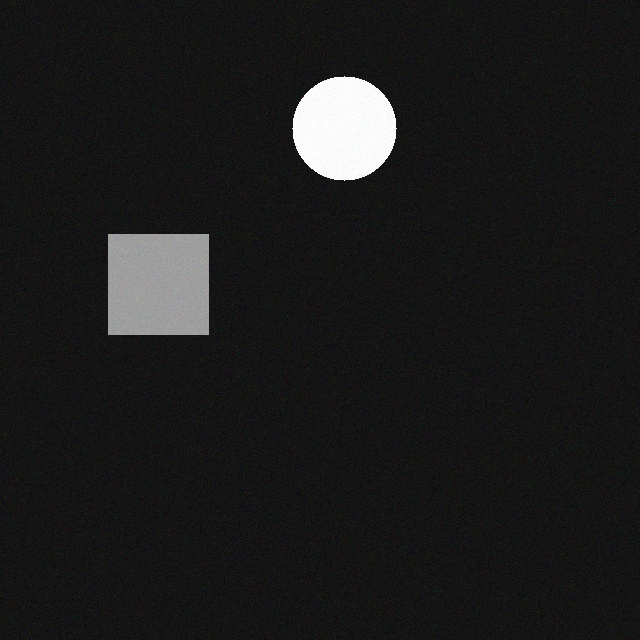circle: (304, 86, 408, 190)
square: (120, 244, 220, 344)
